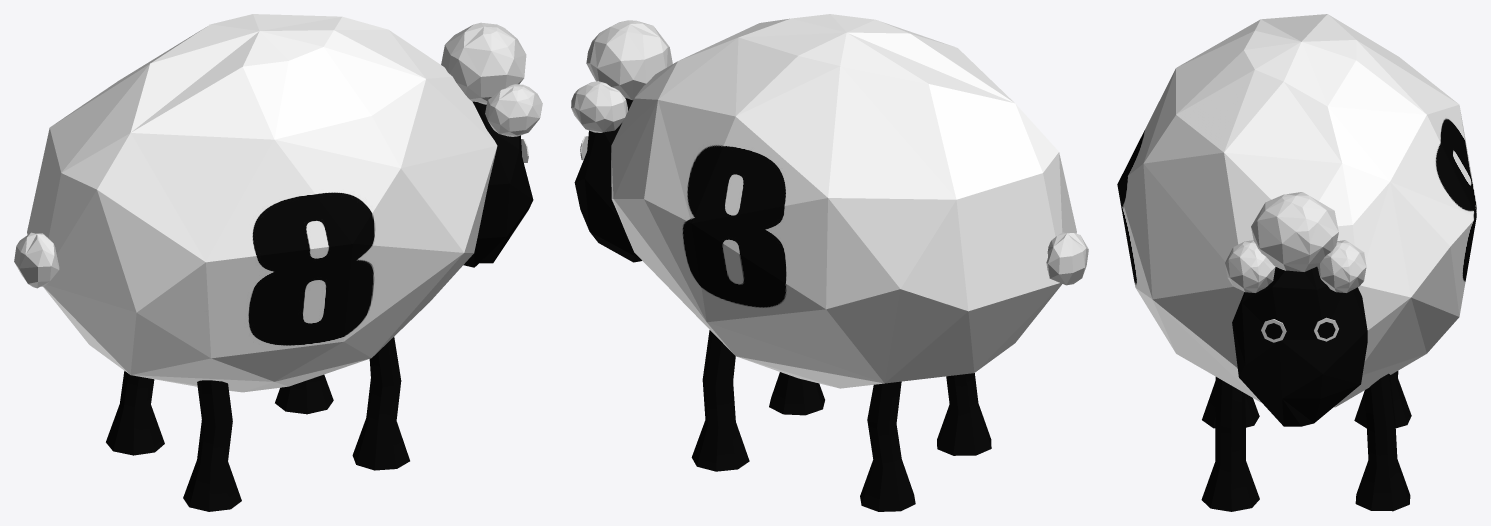
File: sheep8.fbx
3 views of the same model, side by side, from view 1: azimuth 30°, elevation 25°; view 2: azimuth 150°, elevation 25°; view 3: azimuth 270°, elevation 25° (orthographic).
Visible parts, largest first — view 1: pSphere1, pSphere7, pSphere4, pCylinder1, pCylinder5, pCylinder7, pSphere8, pSphere3, pCylinder6; view 2: pSphere1, pCylinder6, pSphere7, pCylinder7, pSphere4, pCylinder1, pSphere9, pSphere3, pCylinder5; view 3: pSphere1, pSphere4, pSphere7, pCylinder5, pCylinder6, pSphere8, pSphere9, pCylinder7, pCylinder1.
Boxes of the visible parts, x1,y1,x2,y2 form: pSphere1: (27,14,497,392); pSphere7: (441,22,526,104); pSphere4: (463,101,533,267); pCylinder1: (183,380,241,511); pCylinder5: (352,337,409,470); pCylinder7: (106,371,164,455); pSphere8: (485,84,542,136); pSphere3: (14,232,59,288); pCylinder6: (275,374,333,414); pSphere1: (611,14,1076,388); pCylinder6: (691,330,749,471); pSphere7: (586,20,672,100); pCylinder7: (860,381,915,511); pSphere4: (574,98,641,262); pCylinder1: (937,373,991,455); pSphere9: (571,81,627,132); pSphere3: (1046,232,1088,285); pCylinder5: (769,372,824,415); pSphere1: (1117,14,1476,407); pSphere4: (1232,266,1367,426); pSphere7: (1251,192,1338,271); pCylinder5: (1201,378,1259,511); pCylinder6: (1355,373,1410,511); pSphere8: (1225,240,1275,292); pSphere9: (1317,240,1366,292); pCylinder7: (1354,371,1411,428); pCylinder1: (1202,377,1259,428).
Bounding box in the file's own units: 3.08 × 2.46 × 1.93.
Materials: 3 (1 with a texture image).
